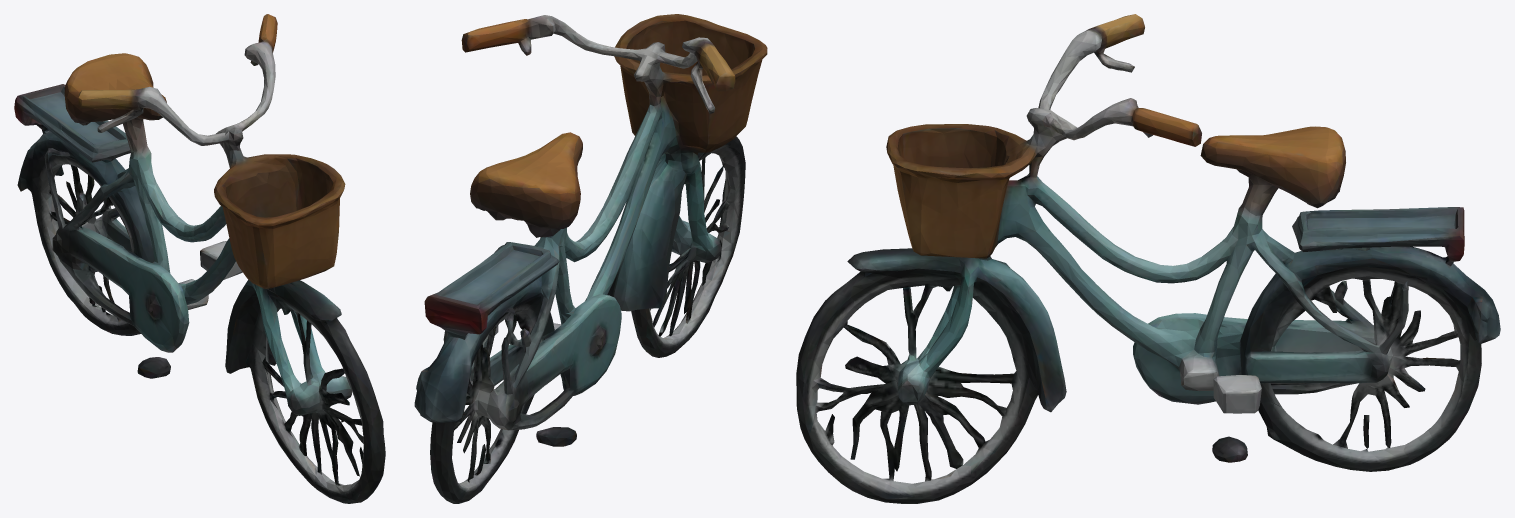
File: bicycle with basket.glb
3 views of the same model, side by side, from view 1: azimuth 30°, elevation 25°; view 2: azimuth 150°, elevation 25°; view 3: azimuth 270°, elevation 25° (orthographic). The views are drawn at different scales.
Parts seen in each view (by area): view 1: world; view 2: world; view 3: world.
Part boxes in pixels (x1,y1,x2,y2): world: (14,14,385,503); world: (414,14,767,503); world: (796,14,1500,503).
Size of the model in its own units: 0.411 by 0.6496 by 0.9949.
1 material, 1 textured.
